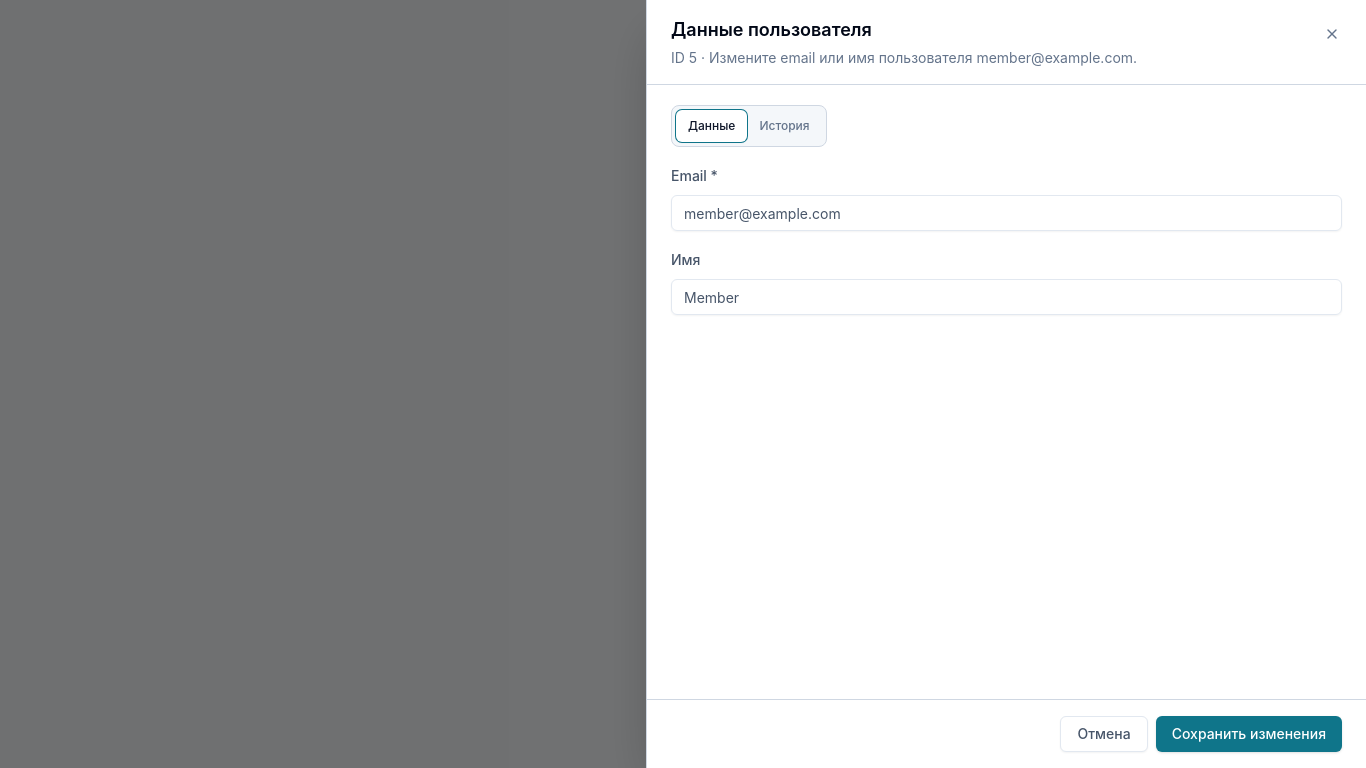
Scenario: AdminUserEditorSheet › shows the account change history on its own tab
Click the tab "История" at (784, 126), box top-left (747, 110), bottom-right (822, 142)
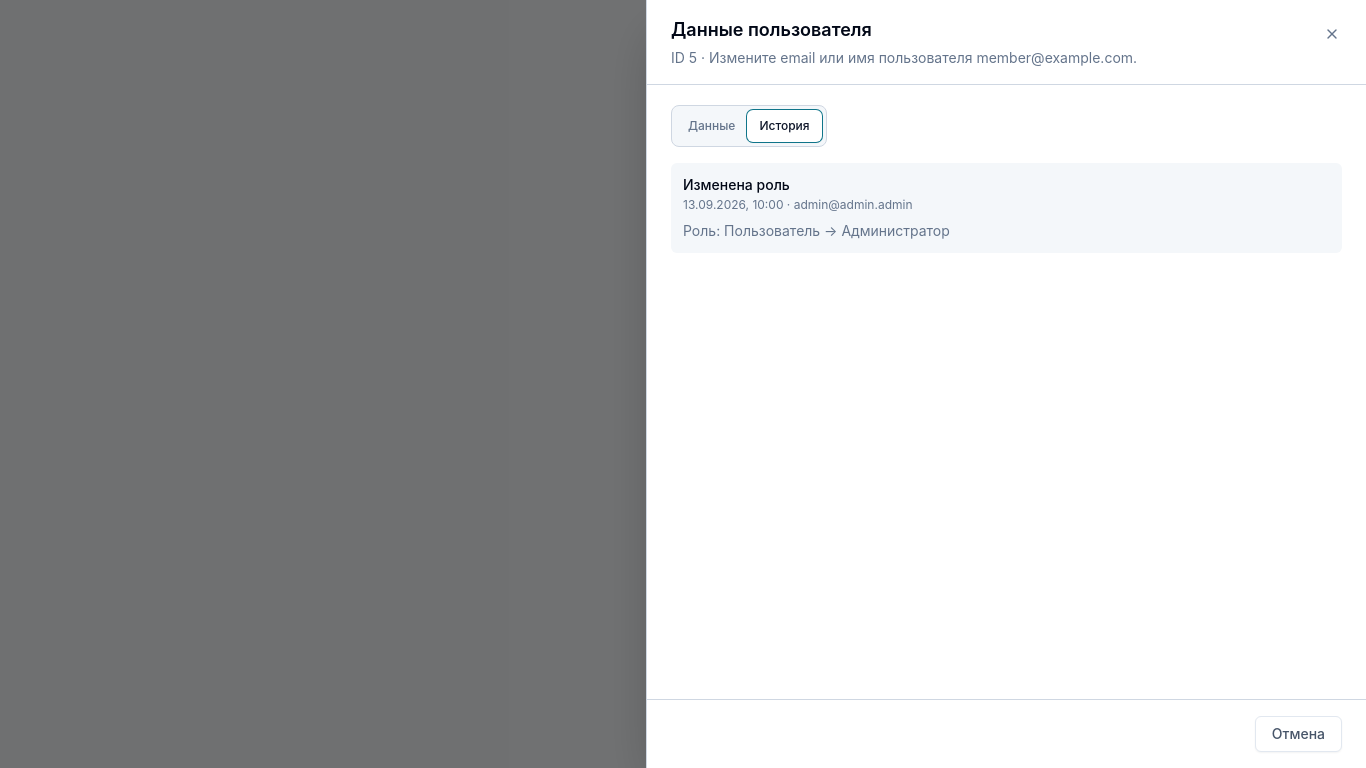
Expected: the text "Изменена роль" is shown, top-left (683, 176), bottom-right (790, 193)
Expected: the list item "Роль: Пользователь → Администратор" is shown, top-left (683, 222), bottom-right (950, 239)
Expected: the button "Сохранить изменения" is gone
Click the tab "Данные" at (712, 126), box top-left (676, 110), bottom-right (747, 142)
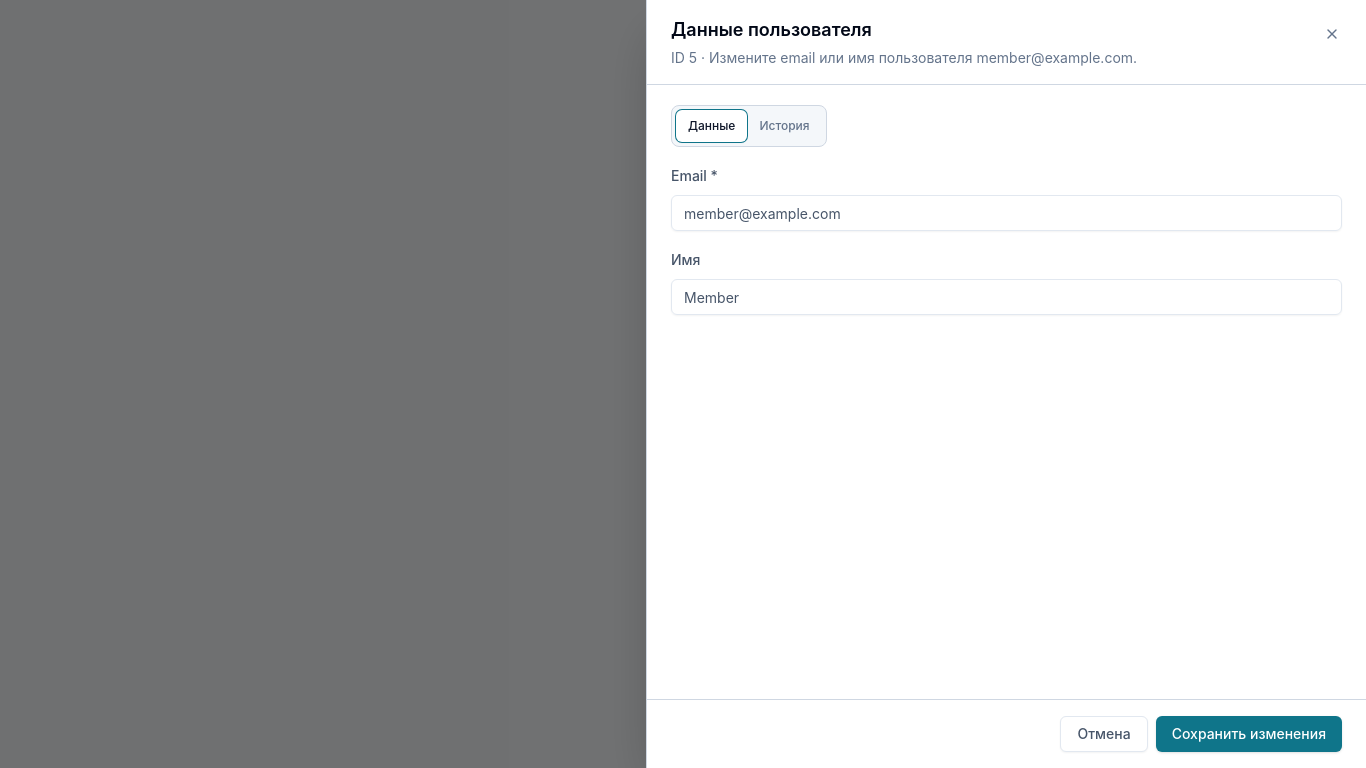
Expected: the field labelled "Email *" holds "member@example.com", top-left (671, 195), bottom-right (1342, 231)
